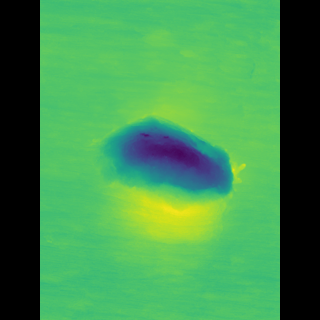Loch: (101, 105, 228, 216)
